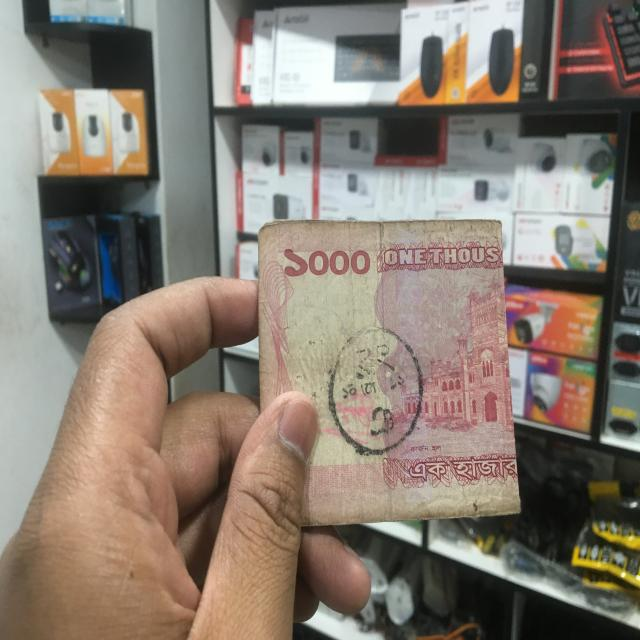Taka: (259, 218, 523, 513)
